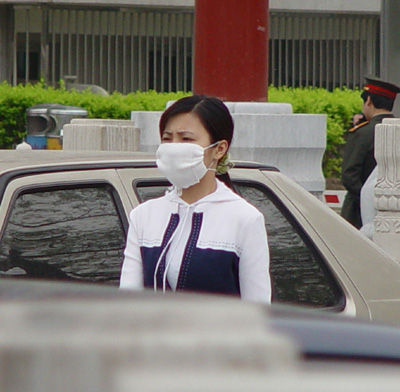face_mask: (158, 112, 212, 181)
